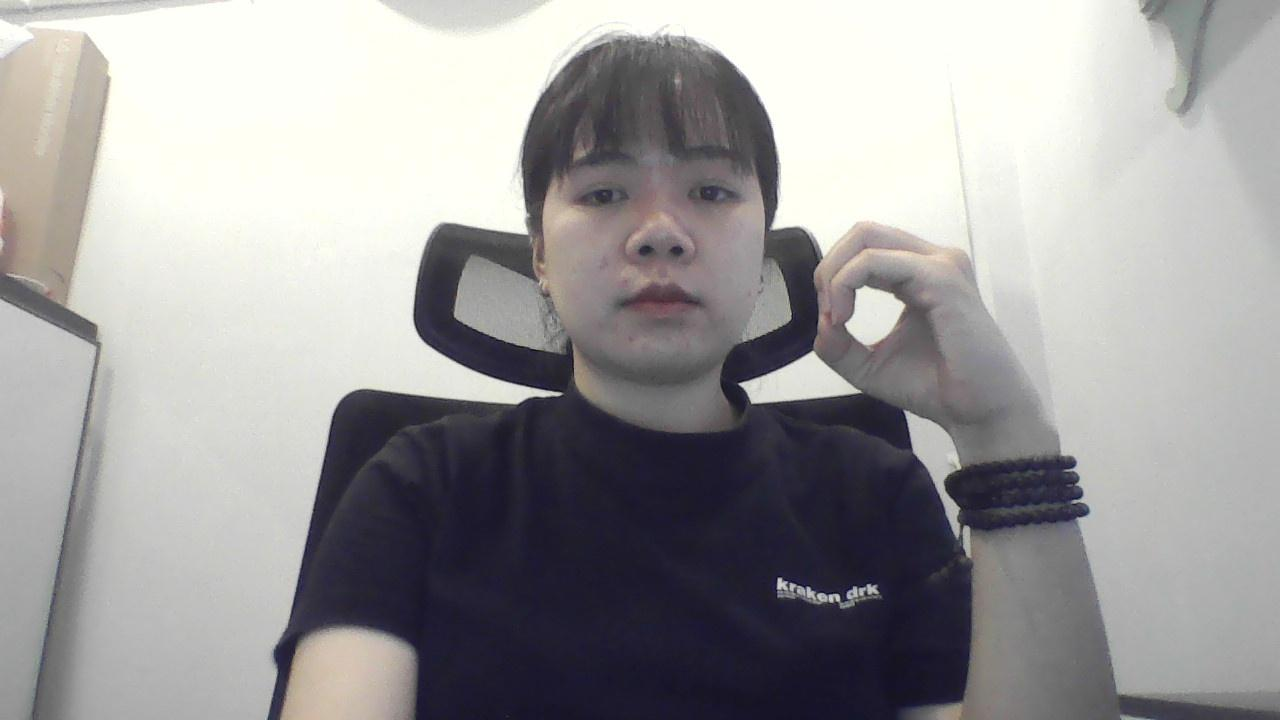O: (804, 194, 1059, 430)
